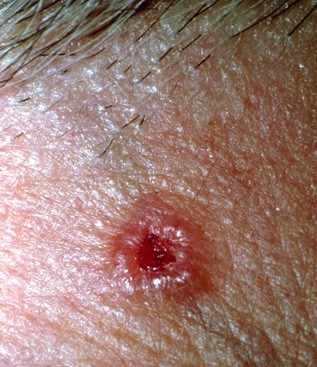Basa Cell Carcinoma: (87, 177, 235, 324)
